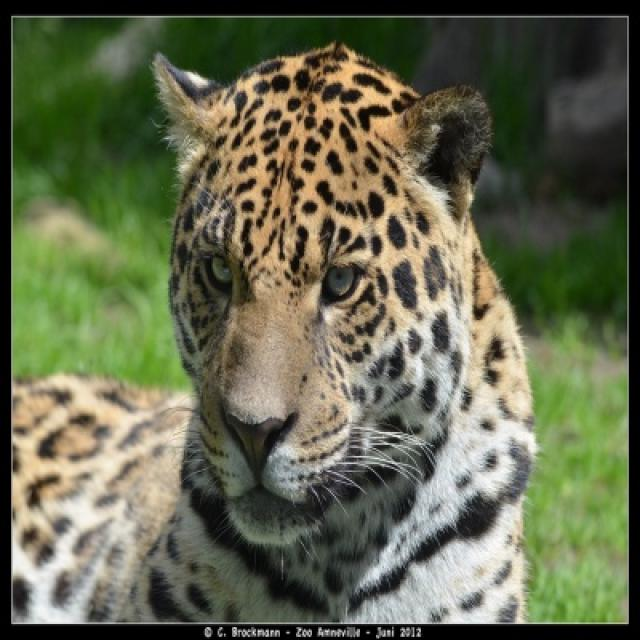Jaguar: (11, 42, 539, 627)
